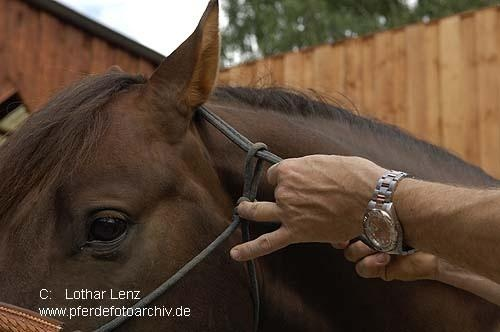horse: (3, 2, 499, 332)
